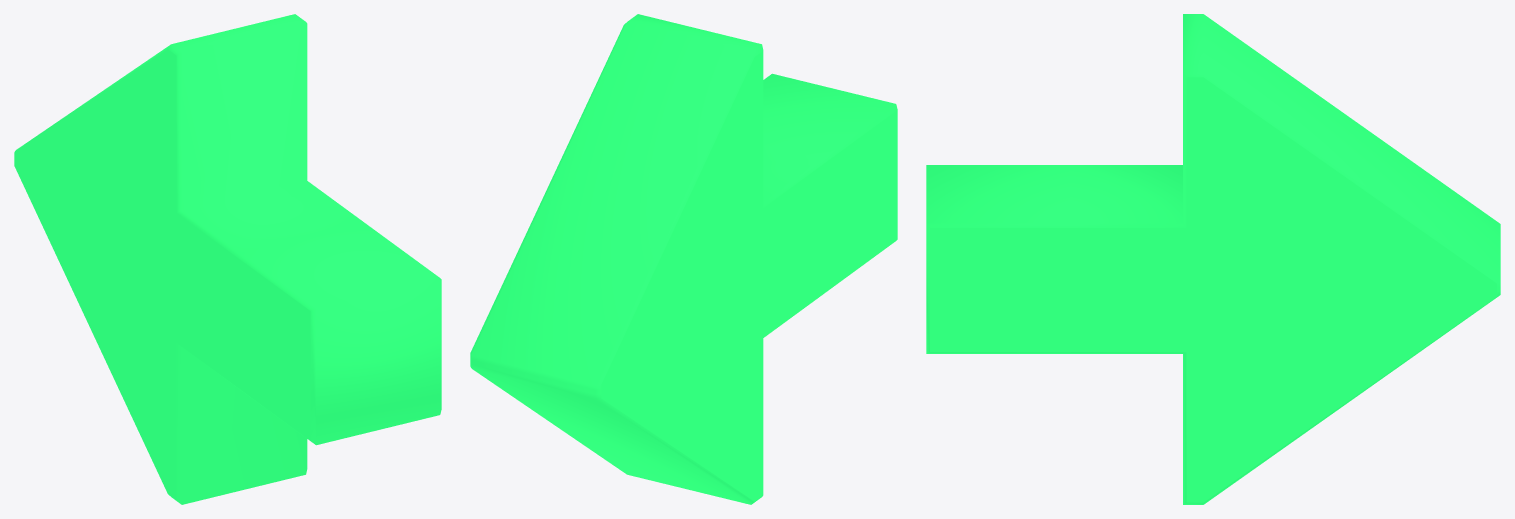
The model's file is arrow.fbx.
3 renders of one model, left to right at view 1: azimuth 30°, elevation 25°; view 2: azimuth 150°, elevation 25°; view 3: azimuth 270°, elevation 25°, orthographic. The views are drawn at different scales.
Visible parts, largest first — view 1: Cube; view 2: Cube; view 3: Cube.
Boxes of the visible parts, x1,y1,x2,y2 form: Cube: [14, 14, 441, 504]; Cube: [470, 14, 897, 504]; Cube: [926, 14, 1500, 504].
Bounding box in the file's own units: 0.7739 × 2.56 × 3.08.
